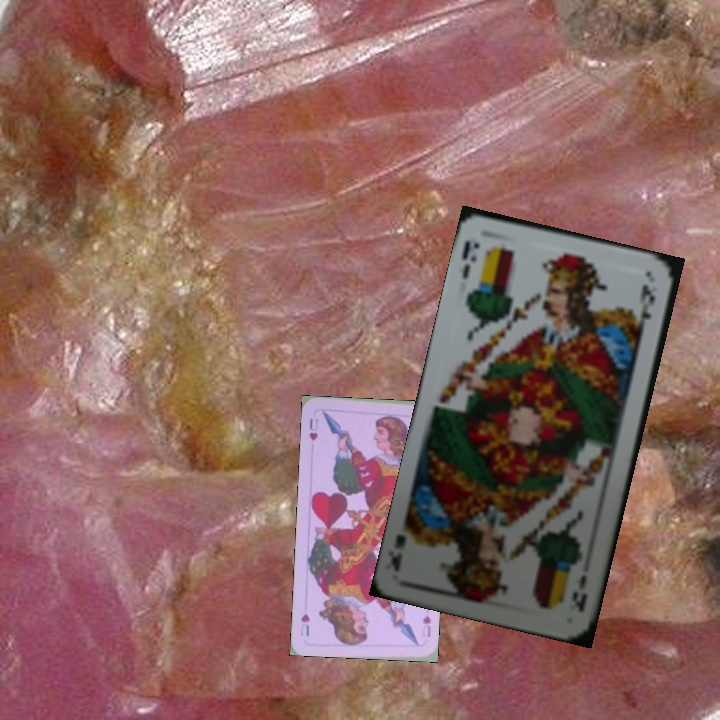EK: (457, 235, 483, 282), (568, 570, 590, 615)
HU: (305, 414, 321, 443), (418, 611, 433, 640)
